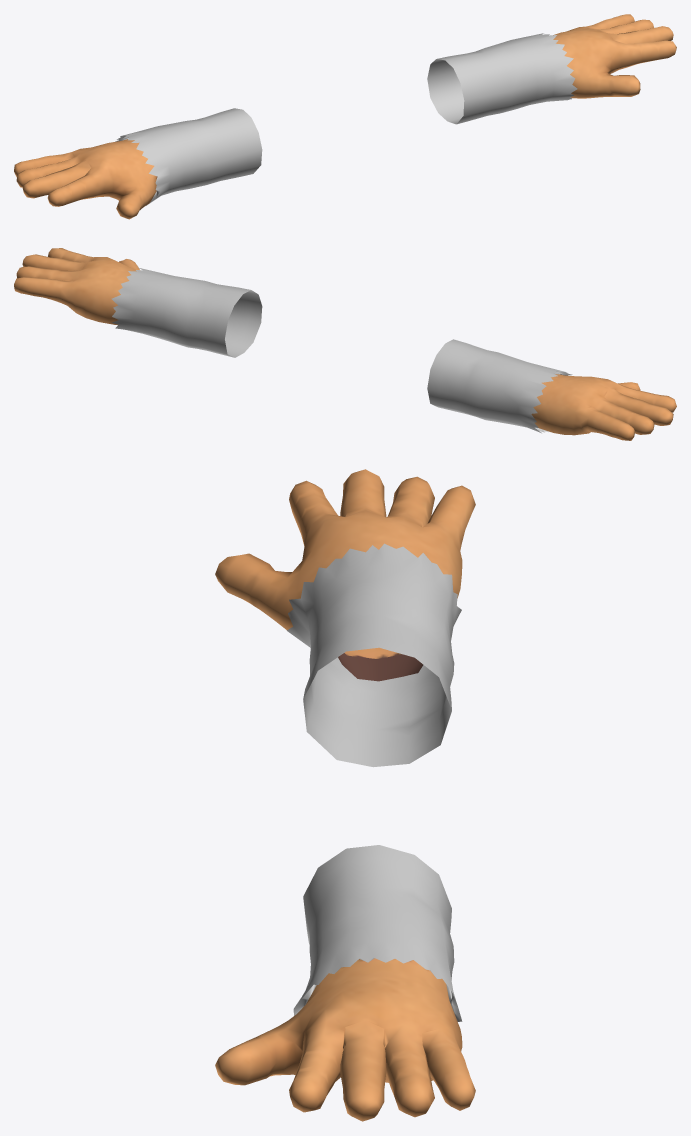
The picture shows the model from 3 angles, top to bottom: view 1: azimuth 30°, elevation 25°; view 2: azimuth 150°, elevation 25°; view 3: azimuth 270°, elevation 25°; orthographic projection. The views are drawn at different scales.
Visible parts, largest first — view 1: model_0_submesh_0, model_0_submesh_1; view 2: model_0_submesh_0, model_0_submesh_1; view 3: model_0_submesh_1, model_0_submesh_0.
Part boxes in pixels (x1,y1,x2,y2): model_0_submesh_0: (115, 33, 577, 205); model_0_submesh_1: (14, 14, 676, 219); model_0_submesh_0: (111, 268, 572, 433); model_0_submesh_1: (14, 248, 676, 440); model_0_submesh_1: (215, 469, 475, 1121); model_0_submesh_0: (287, 543, 462, 1021).
Bounding box in the file's own units: 3.6 × 0.3197 × 0.6267.
